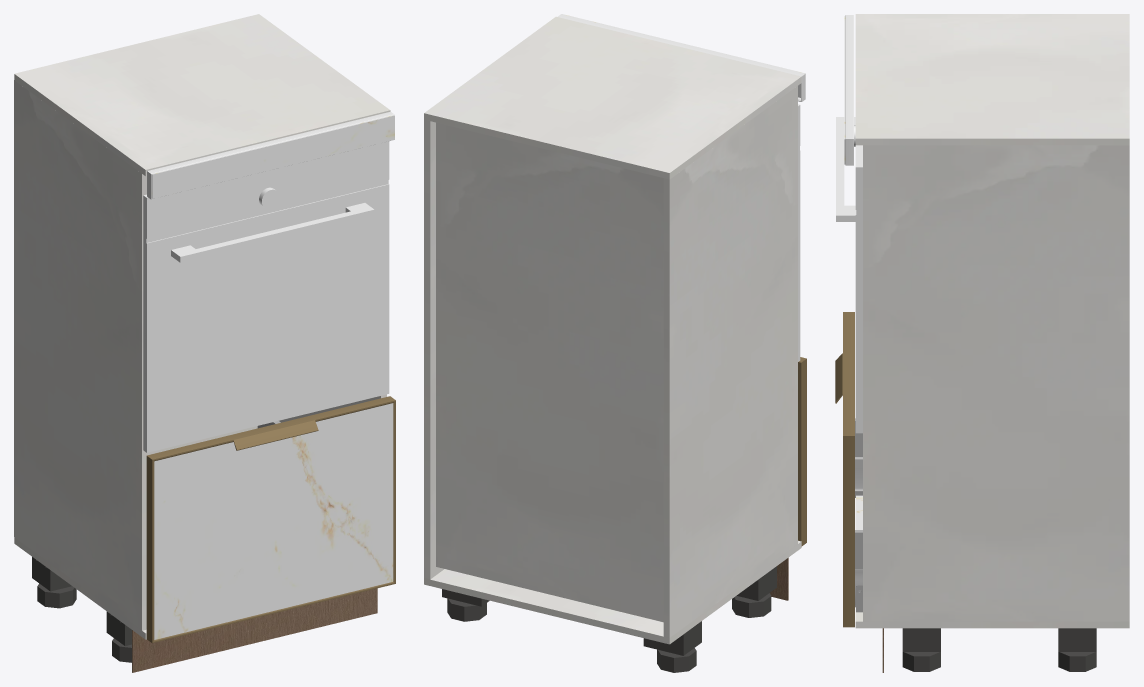
The model's file is MDT-OV-TTS-ST-1HB-1SX-XXX-600-1200-560-15.glb.
3 renders of one model, left to right at view 1: azimuth 30°, elevation 25°; view 2: azimuth 150°, elevation 25°; view 3: azimuth 270°, elevation 25°, orthographic. The views are drawn at different scales.
Visible parts, largest first — view 1: SKP_Component1_node, TP_node_0, Object_node_39, TP, Object_node_41, TP_node_4, Extrusion_node_4, ExtrSplGeo, Extrusion_node, ALU PROF FOR SHUTTER 851P IMP_node_1, TP_node, Extrusion_node_3 (+2 smaller); view 2: TP_node_5, TP_node_0, TP, TP_node, TP_node_1, Extrusion_node_4, ALU PROF FOR SHUTTER 851P IMP_node_1, Plate, SKP_Component1_node, Foot, Foot_node_0, Foot_node (+1 smaller); view 3: TP_node_1, TP, SKP_Component1_node, TP_node, Extrusion_node_2, ALU PROF FOR SHUTTER 851P IMP_node_1, Extrusion_node, Plate_node_1, Plate_node, ExtrSplGeo, Foot_node, Foot_node_1.
Part boxes in pixels (x1,y1,x2,y2): SKP_Component1_node: (143, 141, 389, 452); TP_node_0: (14, 80, 148, 630); Object_node_39: (154, 403, 393, 639); TP: (14, 14, 390, 176); Object_node_41: (132, 588, 377, 672); TP_node_4: (151, 115, 394, 198); Extrusion_node_4: (146, 456, 154, 642); ExtrSplGeo: (228, 416, 318, 450); Extrusion_node: (147, 396, 395, 461); ALU PROF FOR SHUTTER 851P IMP_node_1: (147, 111, 394, 173); TP_node: (14, 537, 146, 639); Extrusion_node_3: (152, 582, 395, 643); TP_node_5: (436, 122, 663, 622); TP_node_0: (663, 86, 797, 637); TP: (424, 16, 801, 179); TP_node: (424, 540, 801, 644); TP_node_1: (424, 119, 443, 579); Extrusion_node_4: (798, 359, 806, 546); ALU PROF FOR SHUTTER 851P IMP_node_1: (557, 14, 804, 76); Plate: (643, 621, 701, 655); SKP_Component1_node: (798, 105, 800, 361); Foot: (657, 648, 696, 672); Foot_node_0: (732, 593, 771, 617); Foot_node: (447, 598, 486, 621); TP_node_1: (863, 145, 1129, 621); TP: (855, 14, 1129, 145); SKP_Component1_node: (836, 117, 862, 433); TP_node: (855, 498, 1129, 628); Extrusion_node_2: (843, 436, 854, 627); ALU PROF FOR SHUTTER 851P IMP_node_1: (845, 15, 853, 138); Extrusion_node: (843, 312, 854, 435); Plate_node_1: (902, 628, 940, 651); Plate_node: (1058, 628, 1096, 651); ExtrSplGeo: (835, 353, 854, 403); Foot_node: (1058, 652, 1096, 671); Foot_node_1: (902, 652, 940, 671).
Size of what is drawn, in the model's own units: 0.6 by 1.2 by 0.5992.
Materials: 9 (3 with a texture image).
